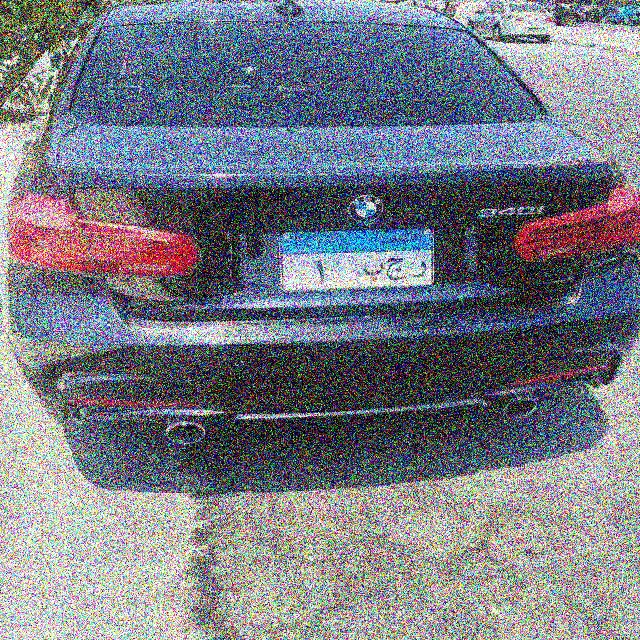License Plate: (276, 226, 437, 295)
